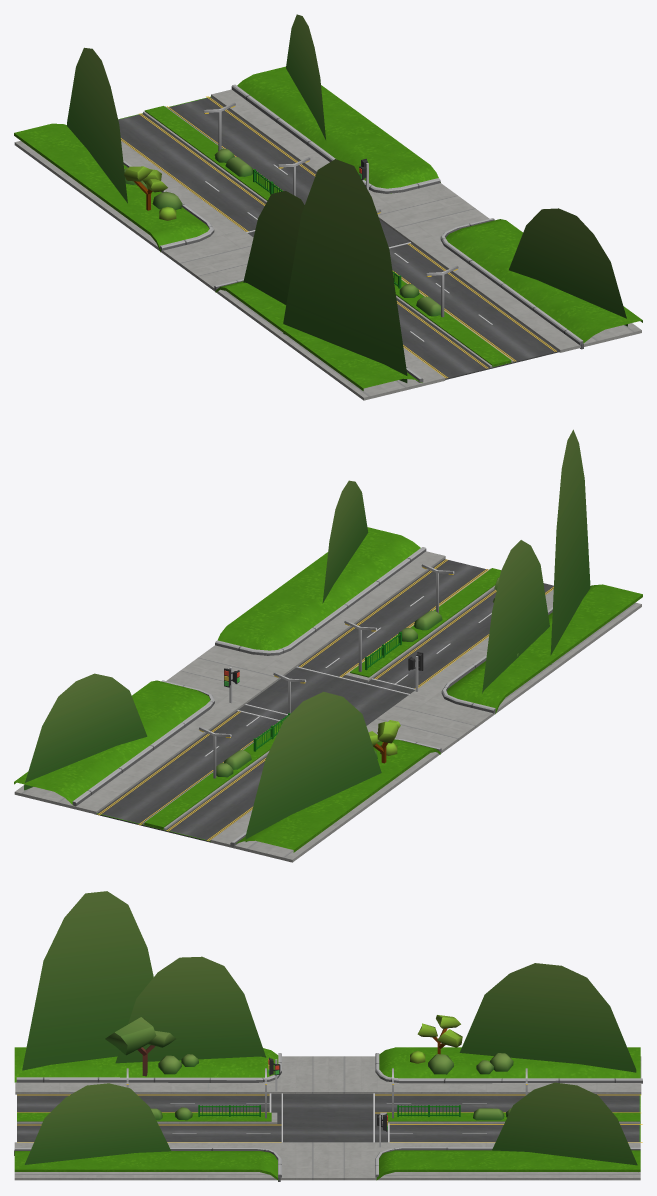
Rendered from L3 Street V2.fbx.
3 views of the same model, one above another, from view 1: azimuth 30°, elevation 25°; view 2: azimuth 150°, elevation 25°; view 3: azimuth 270°, elevation 25° (orthographic). The views are drawn at different scales.
Parts seen in each view (by area): view 1: pCube9150, pasted__pasted__pCube5637, pCube9151, pCube9198, pCube9169, pasted__pasted__pCube5652, pCube9181, pCube9182, pasted__pasted__pCube5639, pasted__pasted__pCube5636, pCube9144, pasted__pasted__pCube5651 (+7 smaller); view 2: pCube9150, pCube9151, pasted__pasted__pCube5639, pCube9198, pCube9181, pasted__pasted__pCube5651, pCube9144, pCube9169, pasted__pasted__pCube5636, pasted__pasted__pCube5637, pCube9182, pasted__pasted__pCube5652 (+7 smaller); view 3: pCube9150, pasted__pasted__pCube5637, pasted__pasted__pCube5639, pCube9151, pasted__pasted__pCube5636, pCube9198, pasted__pasted__pCube5652, pasted__pasted__pCube5651, pCube9169, pCube9182, pCube9181, pCube9144 (+11 smaller).
Part boxes in pixels (box(x1,y1,x2,y2)): pCube9150: box(118, 96, 558, 379); pasted__pasted__pCube5637: box(283, 159, 407, 382); pCube9151: box(211, 89, 641, 352); pCube9198: box(14, 140, 445, 400); pCube9169: box(237, 66, 440, 193); pasted__pasted__pCube5652: box(509, 208, 627, 326); pCube9181: box(446, 219, 642, 343); pCube9182: box(14, 123, 209, 252); pasted__pasted__pCube5639: box(67, 47, 127, 203); pasted__pasted__pCube5636: box(243, 191, 304, 304); pCube9144: box(215, 281, 422, 390); pasted__pasted__pCube5651: box(286, 14, 325, 139); pCube9150: box(94, 559, 553, 842); pCube9151: box(14, 551, 445, 814); pasted__pasted__pCube5639: box(245, 691, 381, 841); pCube9198: box(211, 589, 641, 862); pCube9181: box(218, 527, 420, 650); pasted__pasted__pCube5651: box(24, 673, 147, 790); pCube9144: box(446, 584, 642, 713); pCube9169: box(14, 680, 210, 805); pasted__pasted__pCube5636: box(482, 540, 549, 693); pasted__pasted__pCube5637: box(550, 429, 590, 664); pCube9182: box(236, 739, 440, 852); pasted__pasted__pCube5652: box(322, 480, 368, 603); pCube9150: box(17, 1094, 640, 1142); pasted__pasted__pCube5637: box(22, 891, 153, 1070); pasted__pasted__pCube5639: box(459, 963, 636, 1072); pCube9151: box(14, 1142, 640, 1180); pasted__pasted__pCube5636: box(115, 956, 266, 1063); pCube9198: box(15, 1056, 641, 1094); pasted__pasted__pCube5652: box(24, 1083, 170, 1164); pasted__pasted__pCube5651: box(492, 1082, 637, 1165); pCube9169: box(376, 1150, 640, 1180); pCube9182: box(379, 1047, 640, 1078); pCube9181: box(14, 1151, 278, 1180); pCube9144: box(14, 1047, 278, 1082).
Bounding box in the file's own units: 12.28 × 8.4 × 26.68.
Materials: 2 (2 with a texture image).
